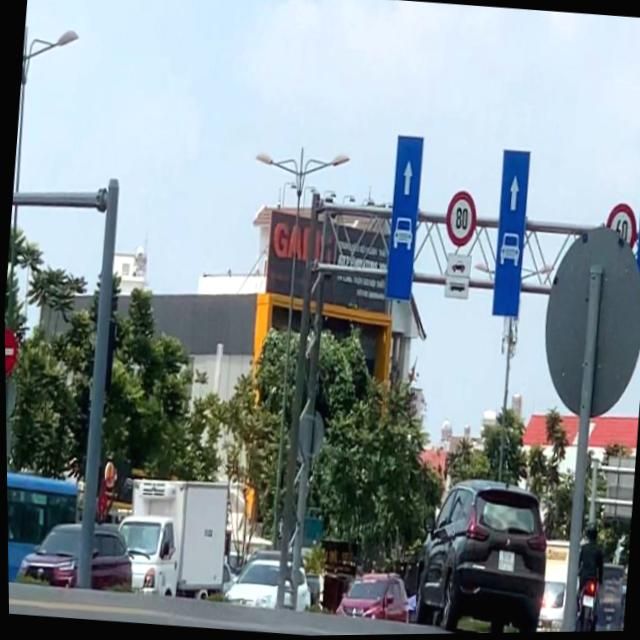Cam di nguoc chieu: (4, 326, 18, 375)
Toc do toi da cho phep: (441, 189, 479, 249)
